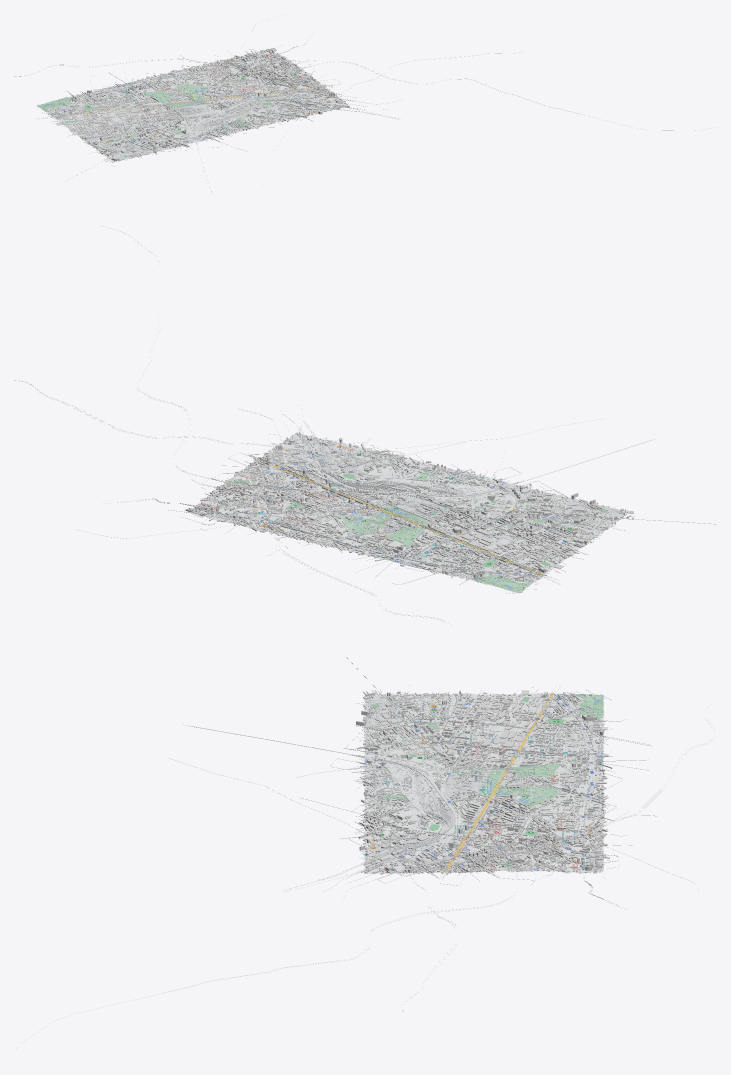
File: Kyiv3D.fbx
3 views of the same model, one above another, from view 1: azimuth 30°, elevation 25°; view 2: azimuth 150°, elevation 25°; view 3: azimuth 270°, elevation 25° (orthographic). The views are drawn at different scales.
Visible parts, largest first — view 1: EXPORT_GOOGLE_MAP_WM, Areas:building, Ways:highway, Ways:railway; view 2: EXPORT_GOOGLE_MAP_WM, Areas:building, Ways:highway, Ways:railway; view 3: EXPORT_GOOGLE_MAP_WM, Areas:building, Ways:highway, Ways:railway.
Part boxes in pixels (x1,y1,x2,y2): EXPORT_GOOGLE_MAP_WM: (36,48,348,161); Areas:building: (41,48,349,162); Ways:highway: (37,45,400,161); Ways:railway: (14,40,708,192); EXPORT_GOOGLE_MAP_WM: (186,433,628,593); Areas:building: (185,431,633,588); Ways:highway: (137,409,634,593); Ways:railway: (14,233,716,622); EXPORT_GOOGLE_MAP_WM: (364,693,603,873); Areas:building: (356,690,612,874); Ways:highway: (296,685,655,898); Ways:railway: (25,657,711,1040).
Bounding box in the file's own units: 1970096 × 26487 × 1439994.
1 material, 1 textured.
